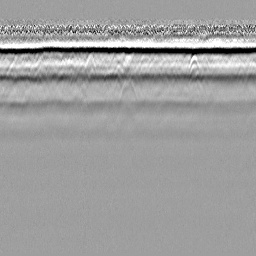cavity: (118, 77, 139, 105)
